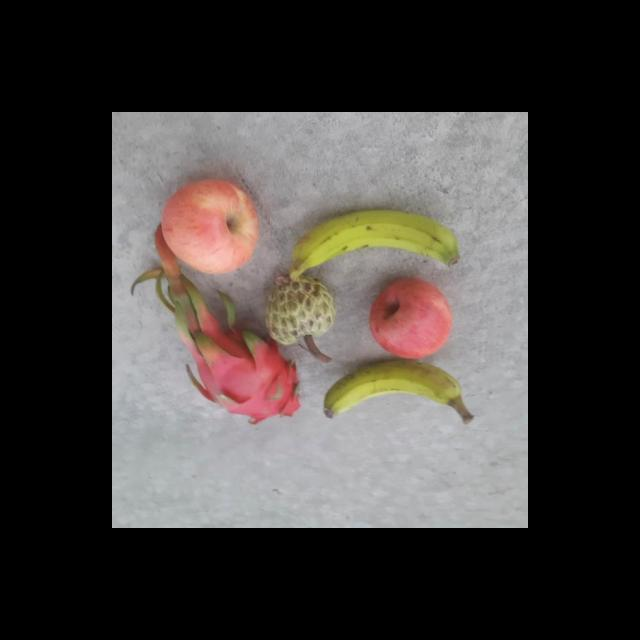Sakya fruit: (258, 276, 338, 350)
apple: (158, 178, 262, 276), (368, 276, 458, 361)
banana: (287, 205, 467, 282), (322, 359, 475, 423)
pitaya: (184, 328, 307, 432)
